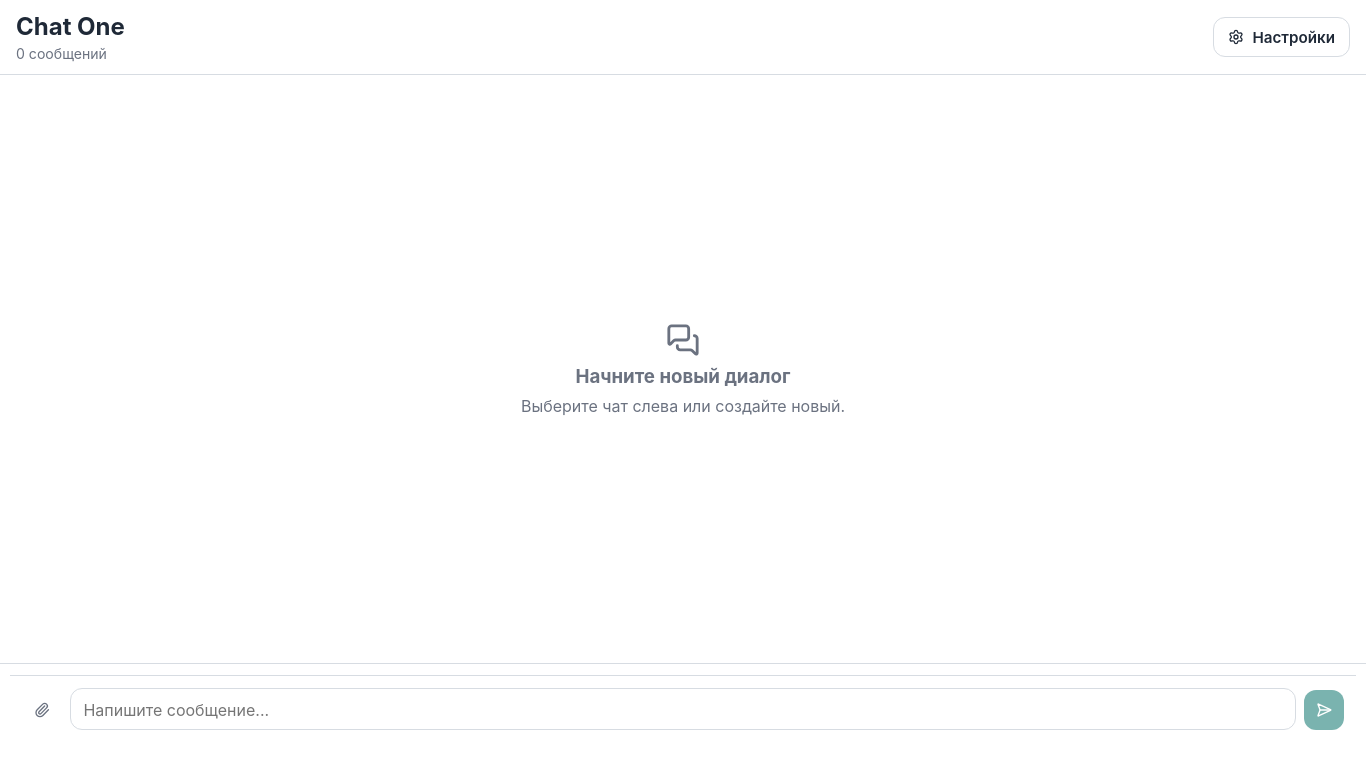
it: ChatWindow › streams assistant response token by token
Type "hello" into the text box with placeholder "Напишите сообщение..." at x=683, y=709, box [70,688,1296,730]
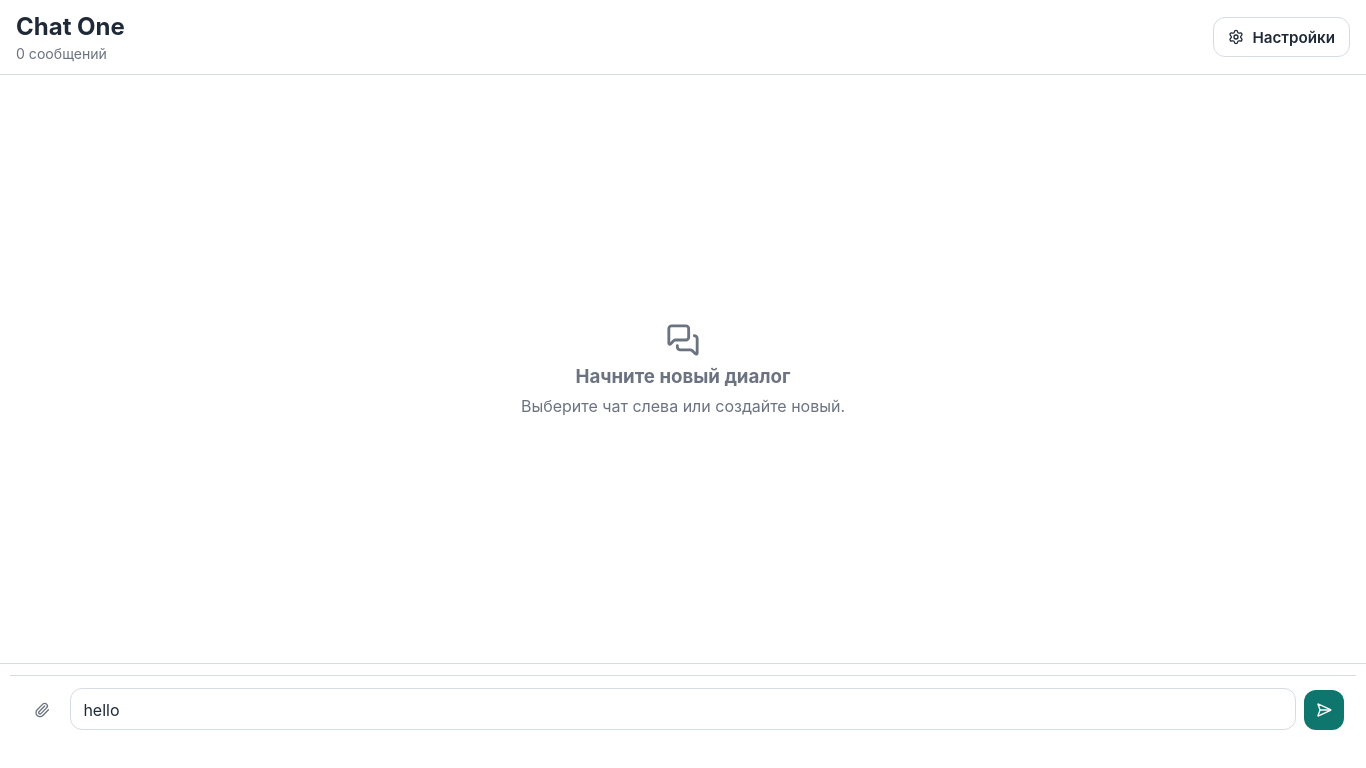
Submit the form with placeholder "Напишите сообщение...", box [10,675,1356,758]
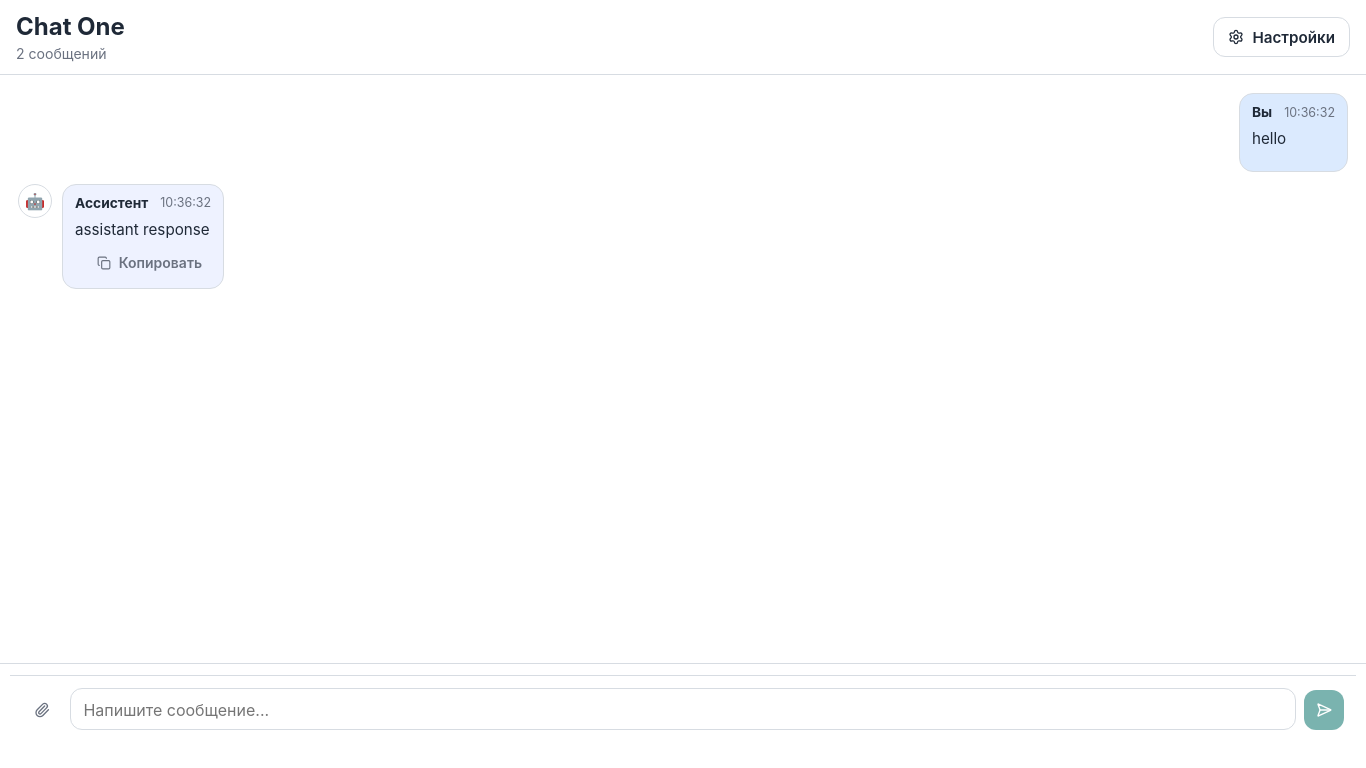
Expected: the button named "Отправить сообщение" is shown, [1304,690,1344,730]
Now the text "hello" is shown, box [1252,129,1286,148]
Now the text "assistant response" is shown, box [75,219,211,242]
